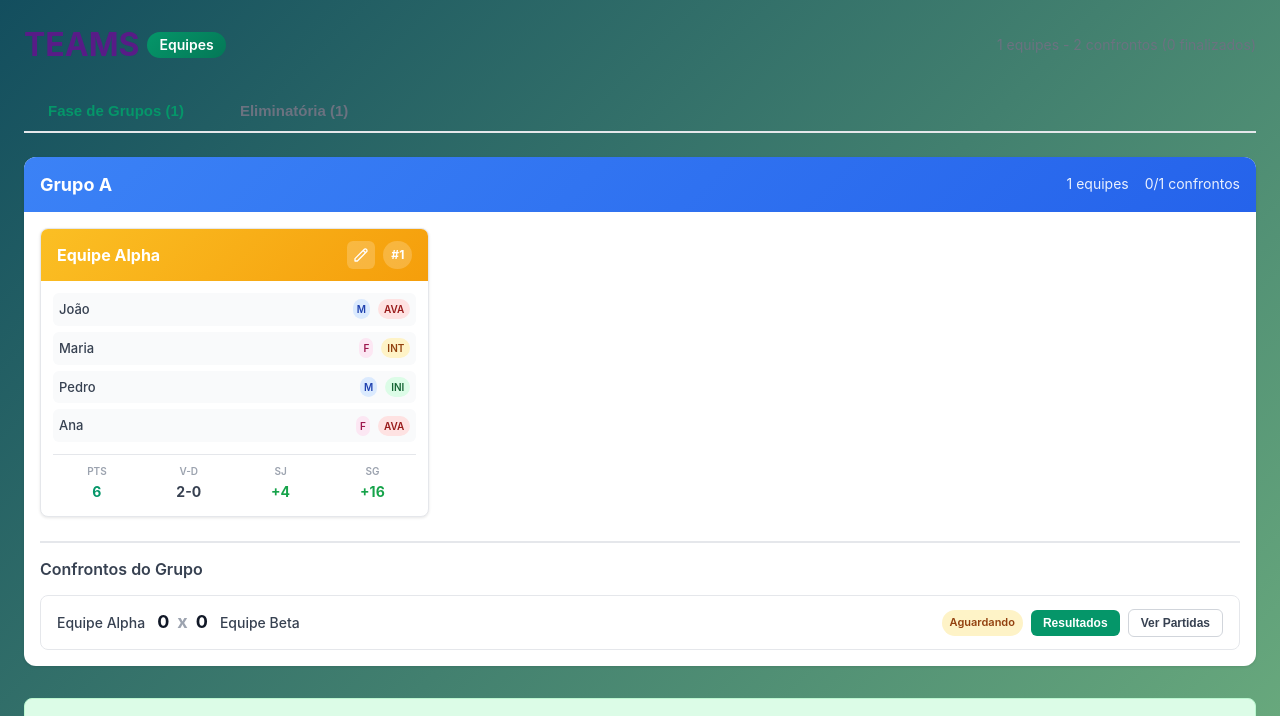
Test case: ChavesTeams › fase eliminatória › deve mostrar origem das equipes quando não definidas
Click the button "Eliminatória (1)" at [294, 111], box [216,90,372,133]
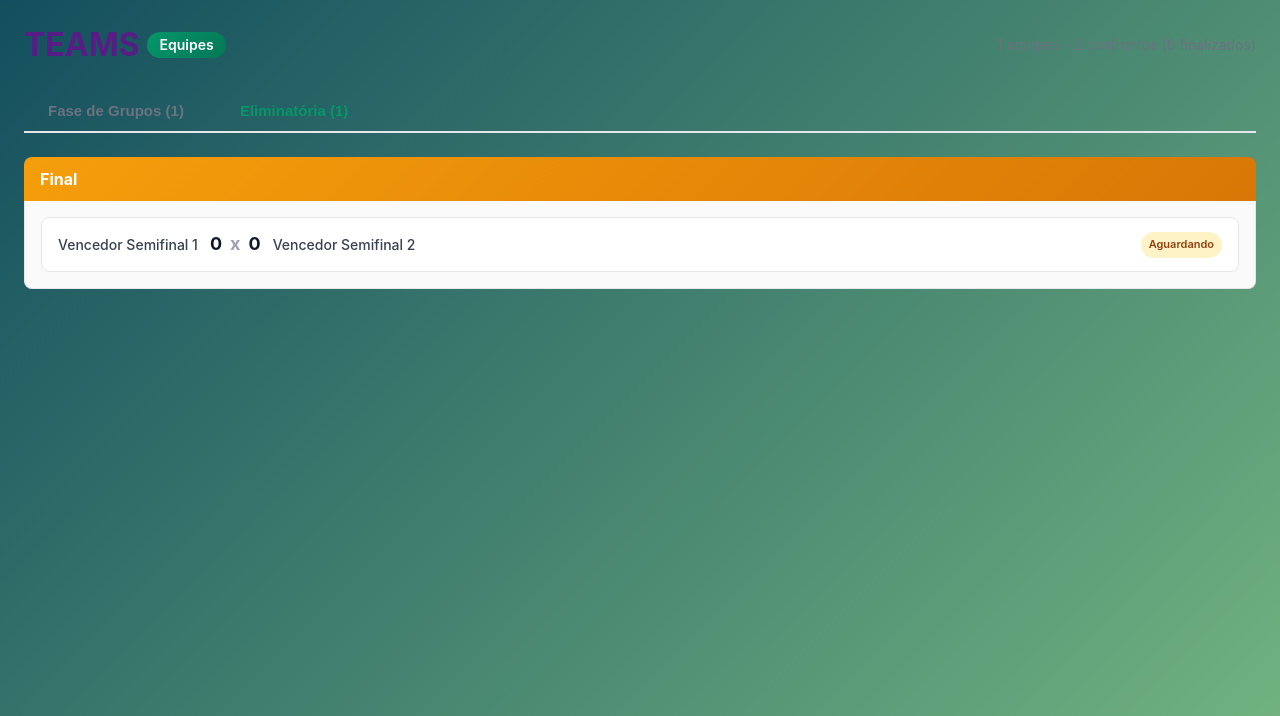
Expected: the text "Vencedor Semifinal 1" is shown, [58,234,198,256]
Expected: the text "Vencedor Semifinal 2" is shown, [273,234,416,256]
